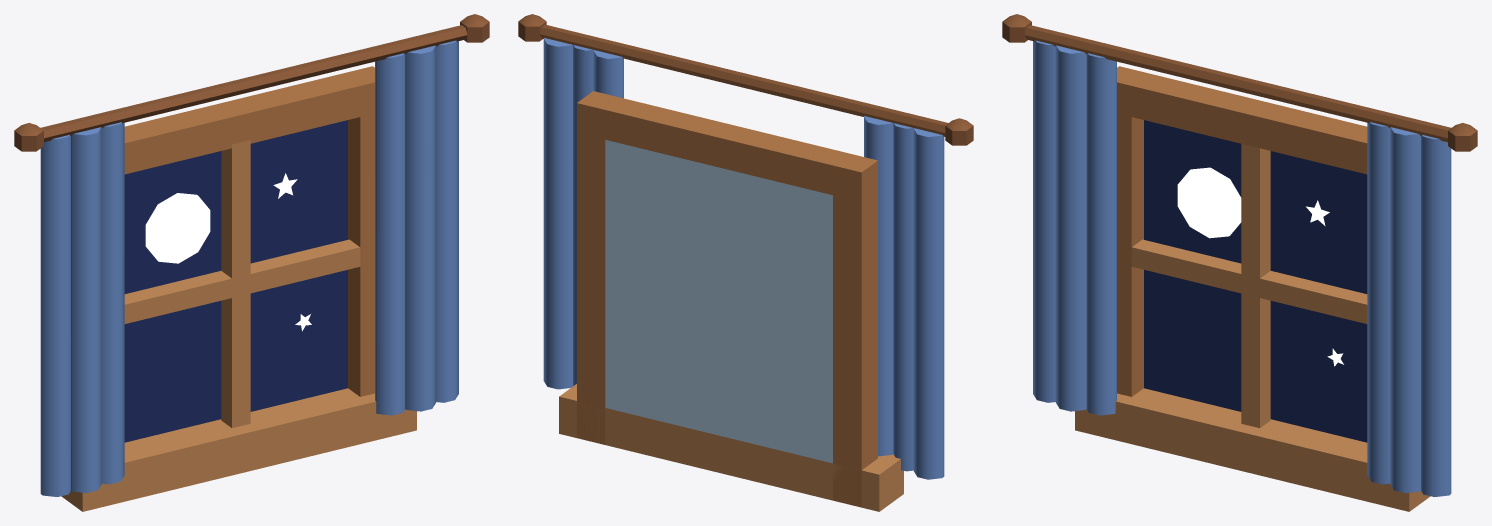
File: window_moon.glb
The picture shows the model from 3 angles, left to right: view 1: azimuth 30°, elevation 25°; view 2: azimuth 150°, elevation 25°; view 3: azimuth 330°, elevation 25°; orthographic projection. The views are drawn at different scales.
Parts seen in each view (by area): view 1: window_moon, night_sky; view 2: window_moon; view 3: window_moon, night_sky.
Part boxes in pixels (x1,y1,x2,y2): window_moon: [14, 14, 489, 511]; night_sky: [124, 120, 347, 442]; window_moon: [518, 14, 973, 511]; window_moon: [1002, 14, 1477, 511]; night_sky: [1144, 120, 1367, 442].
Size of the model in its own units: 1.26 by 1.04 by 0.165.
Materials: 2 (2 with a texture image).
